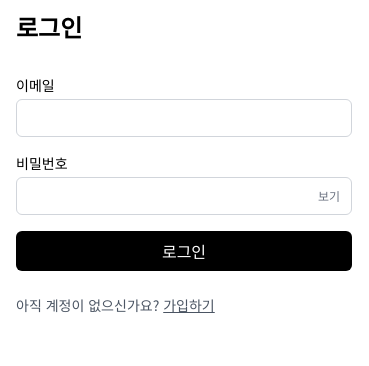
LoginPage (smoke) › shows the API error message when login fails (API error state)
Type "owner@example.com" into the field labelled "이메일" at (184, 118), box x1=16 y1=99 x2=352 y2=137
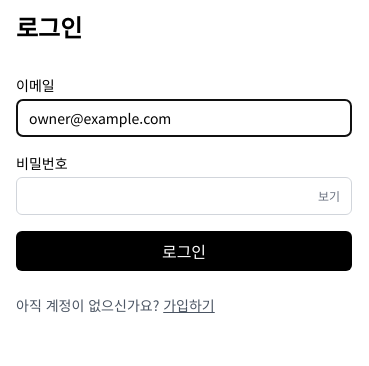
Type "wrong-password" into the password field labelled "비밀번호" at (184, 196), box x1=16 y1=177 x2=352 y2=215
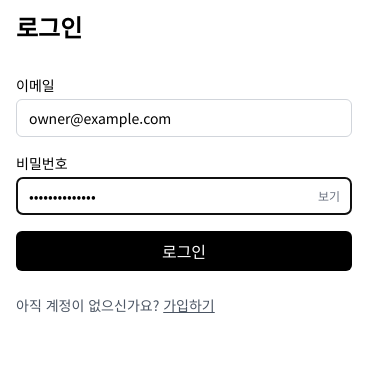
Click the button "로그인" at (184, 251), box x1=16 y1=231 x2=352 y2=271
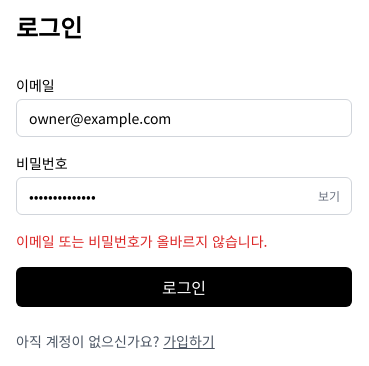
Result: the text "이메일 또는 비밀번호가 올바르지 않습니다." is shown at x1=16 y1=231 x2=267 y2=251
